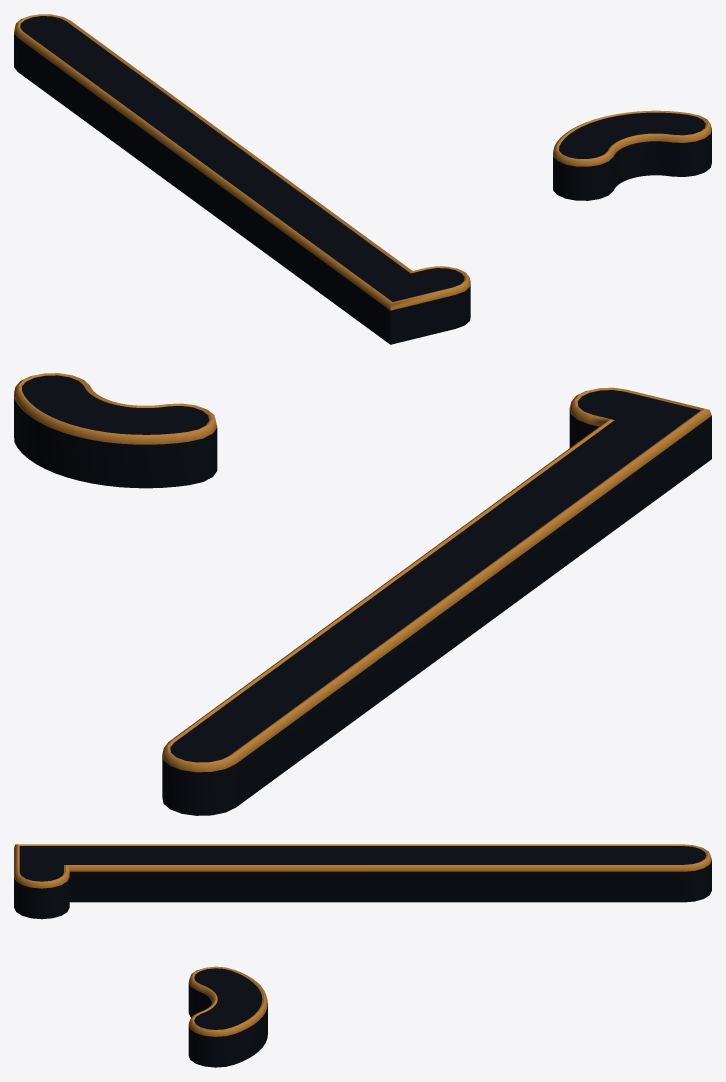
The model's file is nebula-walls.dae.
The picture shows the model from 3 angles, top to bottom: view 1: azimuth 30°, elevation 25°; view 2: azimuth 150°, elevation 25°; view 3: azimuth 270°, elevation 25°; orthographic projection. The views are drawn at different scales.
Parts seen in each view (by area): view 1: cabinet_shell, accent; view 2: cabinet_shell, accent; view 3: cabinet_shell, accent.
Boxes of the visible parts, left/top/right/bottom form: cabinet_shell: left=14, top=16, right=711, bottom=344; accent: left=14, top=14, right=711, bottom=310; cabinet_shell: left=14, top=375, right=711, bottom=815; accent: left=14, top=373, right=711, bottom=772; cabinet_shell: left=14, top=846, right=711, bottom=1067; accent: left=14, top=844, right=711, bottom=1036.
Bounding box in the file's own units: 0.3368 × 0.03 × 0.5265.
